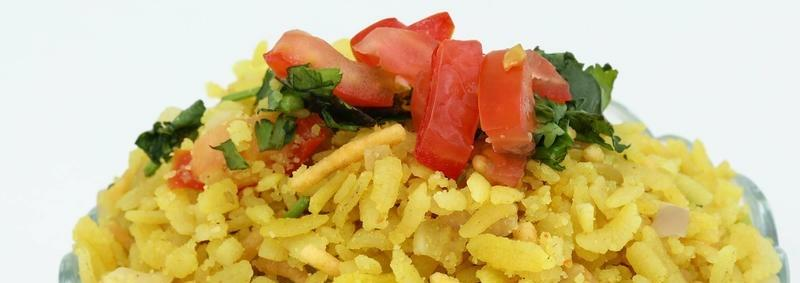Poha: (64, 0, 792, 283)
